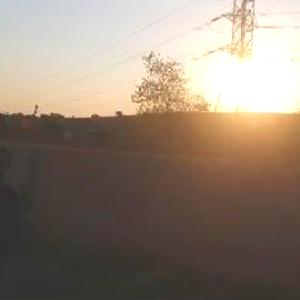follow: (0, 140, 35, 299)
